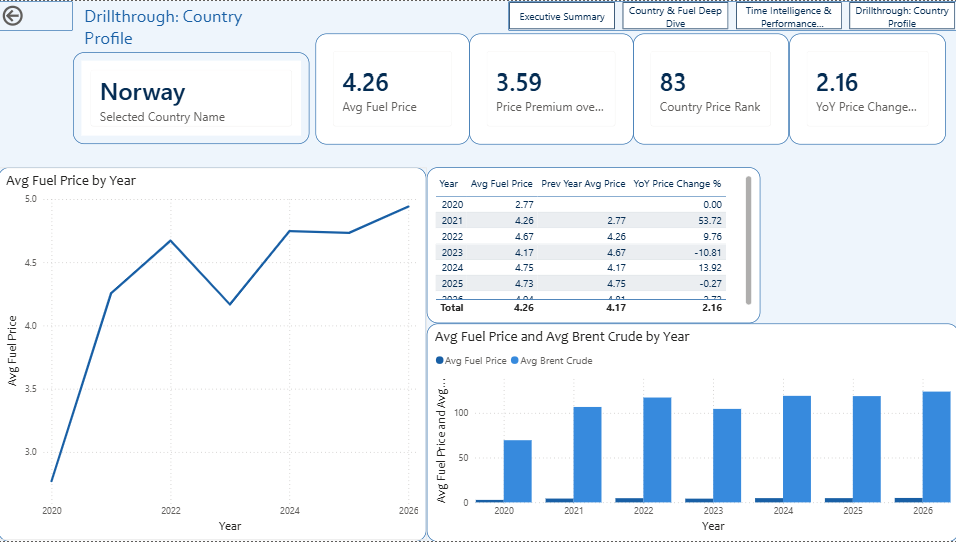

The page's visual inventory and layout, read from the dashboard file:
{"tool":"powerbi","page":{"name":"Drillthrough: Country Profile","canvas":[1280,720],"ordinal":3},"visuals":[{"type":"textbox","box":[110.1,0,272.7,99],"z":0},{"type":"actionButton","box":[0,0,100,40],"z":1000},{"type":"cardVisual","fields":{"Data":["DimCountry.Selected Country Name"]},"box":[100.3,68.5,315.5,122.3],"z":2000},{"type":"cardVisual","fields":{"Data":["FactFuelPrices.Avg Fuel Price"]},"box":[423.1,42.8,205.4,148],"z":3000},{"type":"cardVisual","fields":{"Data":["FactFuelPrices.YoY Price Change %"]},"box":[1055.3,42.8,209.1,148],"z":4000},{"type":"cardVisual","fields":{"Data":["FactFuelPrices.Country Price Rank"]},"box":[847.4,42.8,207.9,148],"z":5000},{"type":"lineChart","fields":{"Category":["DimDate.date.Variation.Date Hierarchy.Year","DimDate.date.Variation.Date Hierarchy.Month"],"Y":["FactFuelPrices.Avg Fuel Price"]},"box":[0,221.3,571.1,498.9],"z":6000},{"type":"clusteredColumnChart","fields":{"Category":["DimDate.Year"],"Y":["FactFuelPrices.Avg Fuel Price","FactFuelPrices.Avg Brent Crude"]},"box":[571.1,429.2,709.2,291],"z":7000},{"type":"tableEx","fields":{"Values":["DimDate.Year","FactFuelPrices.Avg Fuel Price","FactFuelPrices.Prev Year Avg Price","FactFuelPrices.YoY Price Change %"]},"box":[571.1,221.3,445.1,207.9],"z":8000},{"type":"cardVisual","fields":{"Data":["FactFuelPrices.Price Premium over Brent"]},"box":[628.5,42.8,218.9,148],"z":9000},{"type":"bookmarkNavigator","box":[680,0,600,40],"z":9001}]}

Visuals, with their boxes in screenshot pixels (x1, y1, x2, y2), scaled from the page's 1280x720 canvas onto the 956x542 screenshot:
textbox: <box>82,0,286,75</box>
actionButton: <box>0,0,75,30</box>
cardVisual - DimCountry.Selected Country Name: <box>75,52,311,144</box>
cardVisual - FactFuelPrices.Avg Fuel Price: <box>316,32,469,144</box>
cardVisual - FactFuelPrices.YoY Price Change %: <box>788,32,944,144</box>
cardVisual - FactFuelPrices.Country Price Rank: <box>633,32,788,144</box>
lineChart - DimDate.date.Variation.Date Hierarchy.Year x DimDate.date.Variation.Date Hierarchy.Month: <box>0,167,427,541</box>
clusteredColumnChart - DimDate.Year x FactFuelPrices.Avg Fuel Price: <box>427,323,955,541</box>
tableEx - DimDate.Year x FactFuelPrices.Avg Fuel Price: <box>427,167,759,323</box>
cardVisual - FactFuelPrices.Price Premium over Brent: <box>469,32,633,144</box>
bookmarkNavigator: <box>508,0,955,30</box>
